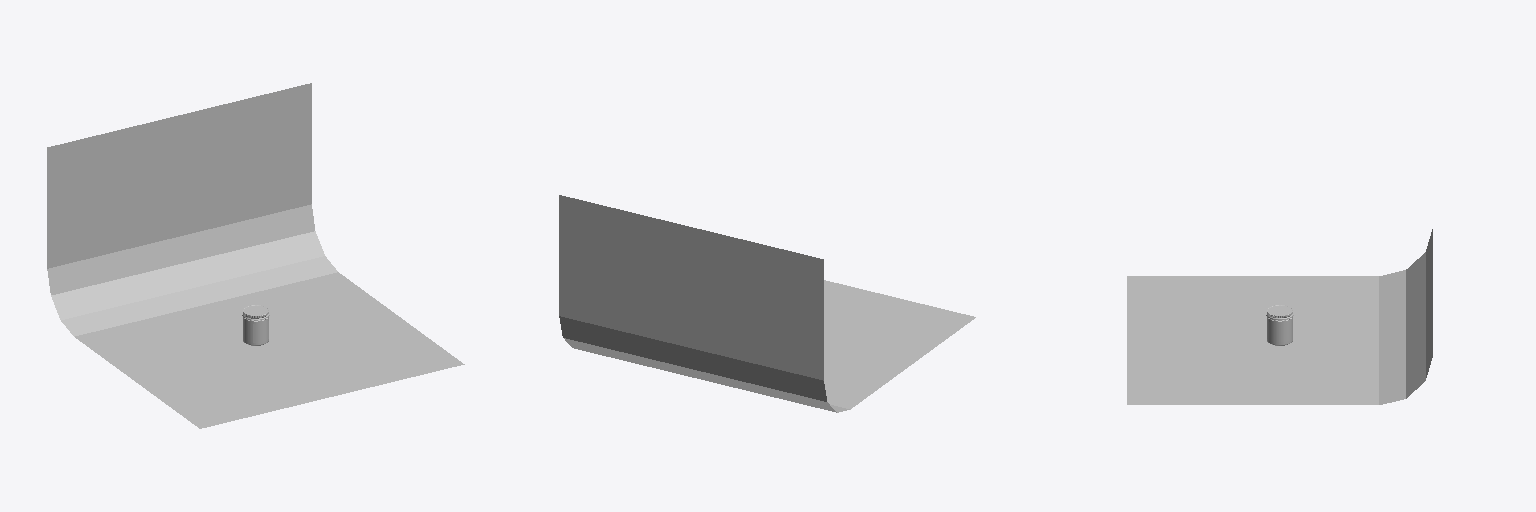
The model's file is honey_jar.obj.
The picture shows the model from 3 angles: view 1: azimuth 30°, elevation 25°; view 2: azimuth 150°, elevation 25°; view 3: azimuth 270°, elevation 25°; orthographic projection.
Visible parts, largest first — view 1: Plane; view 2: Plane; view 3: Plane, Bottle_Cylinder.003.
Boxes of the visible parts, <box> form: Plane: <box>47,83,464,428</box>; Plane: <box>559,195,975,412</box>; Plane: <box>1127,229,1432,404</box>; Bottle_Cylinder.003: <box>1267,318,1292,345</box>.
Bounding box in the file's own units: 32.3 × 19.79 × 32.3.